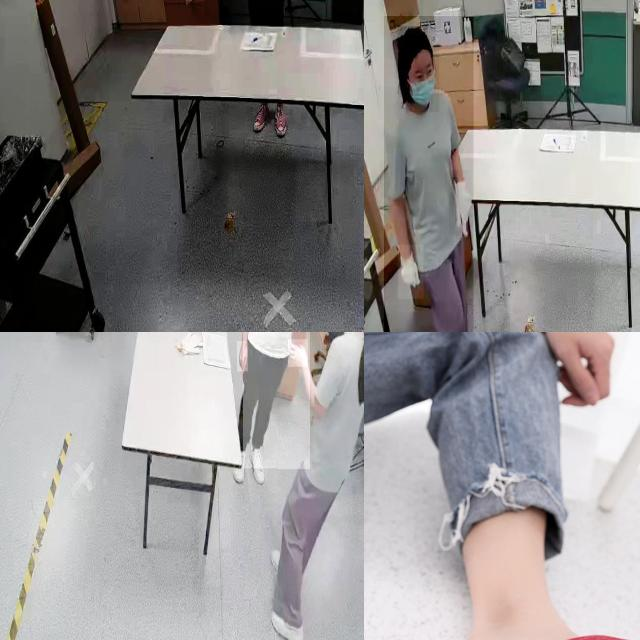face_mask: (408, 51, 439, 112)
hand_glove: (398, 244, 424, 300), (449, 170, 471, 236)
hand_noglove: (288, 339, 308, 368), (237, 341, 249, 372)
head_nohelmet: (398, 26, 432, 51)
person: (384, 16, 474, 332), (277, 332, 364, 640), (243, 332, 310, 469)
shoes: (270, 608, 306, 640), (249, 445, 267, 490), (232, 436, 248, 486), (274, 99, 290, 140), (252, 96, 268, 130)
